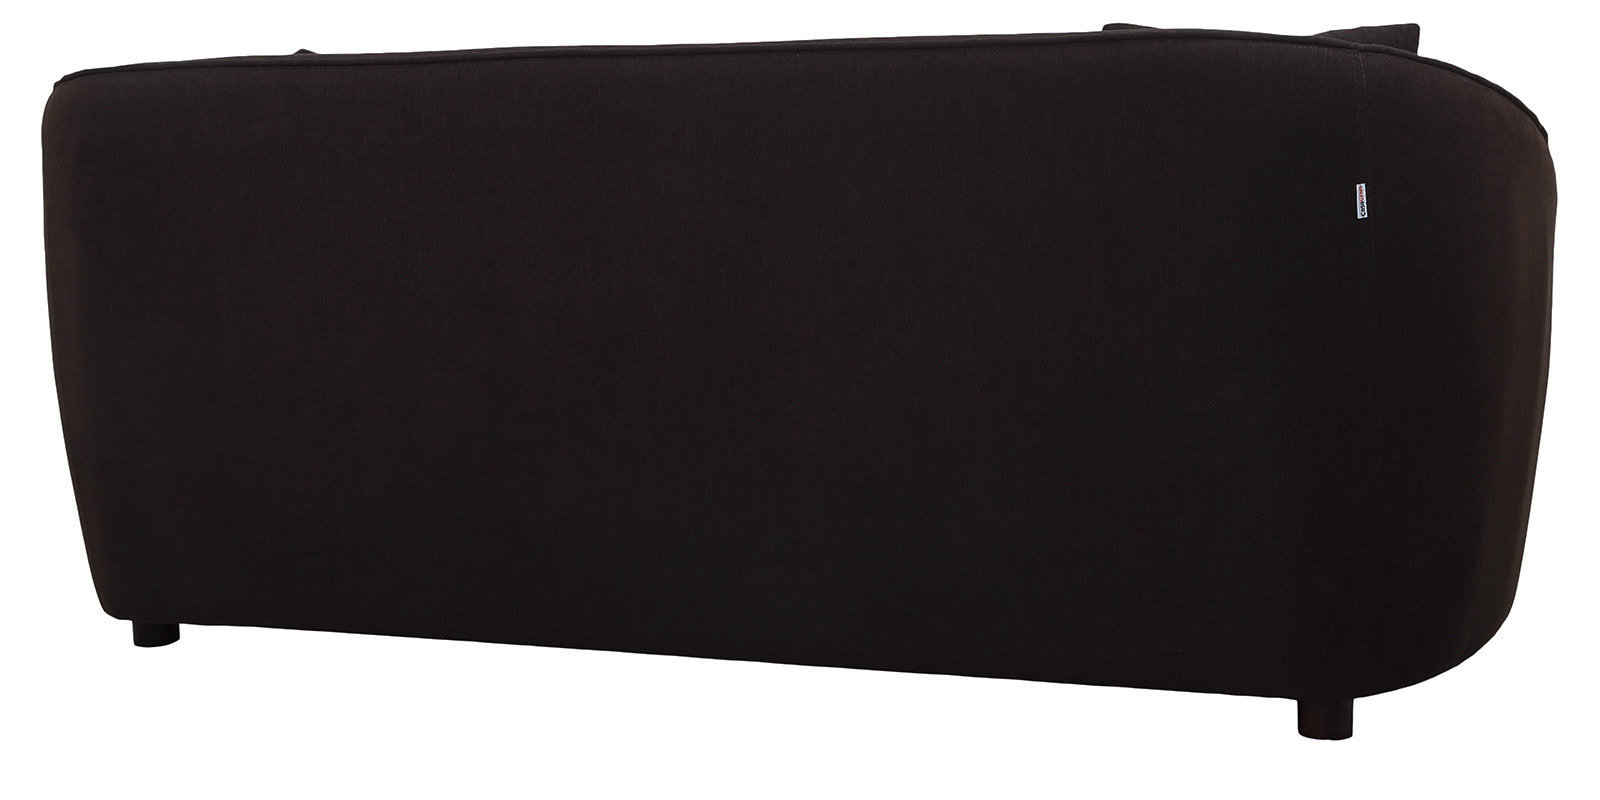Mamore Three Seater Sofa in Chestnut Brown Color by CasaCraft: (39, 21, 1559, 744)
